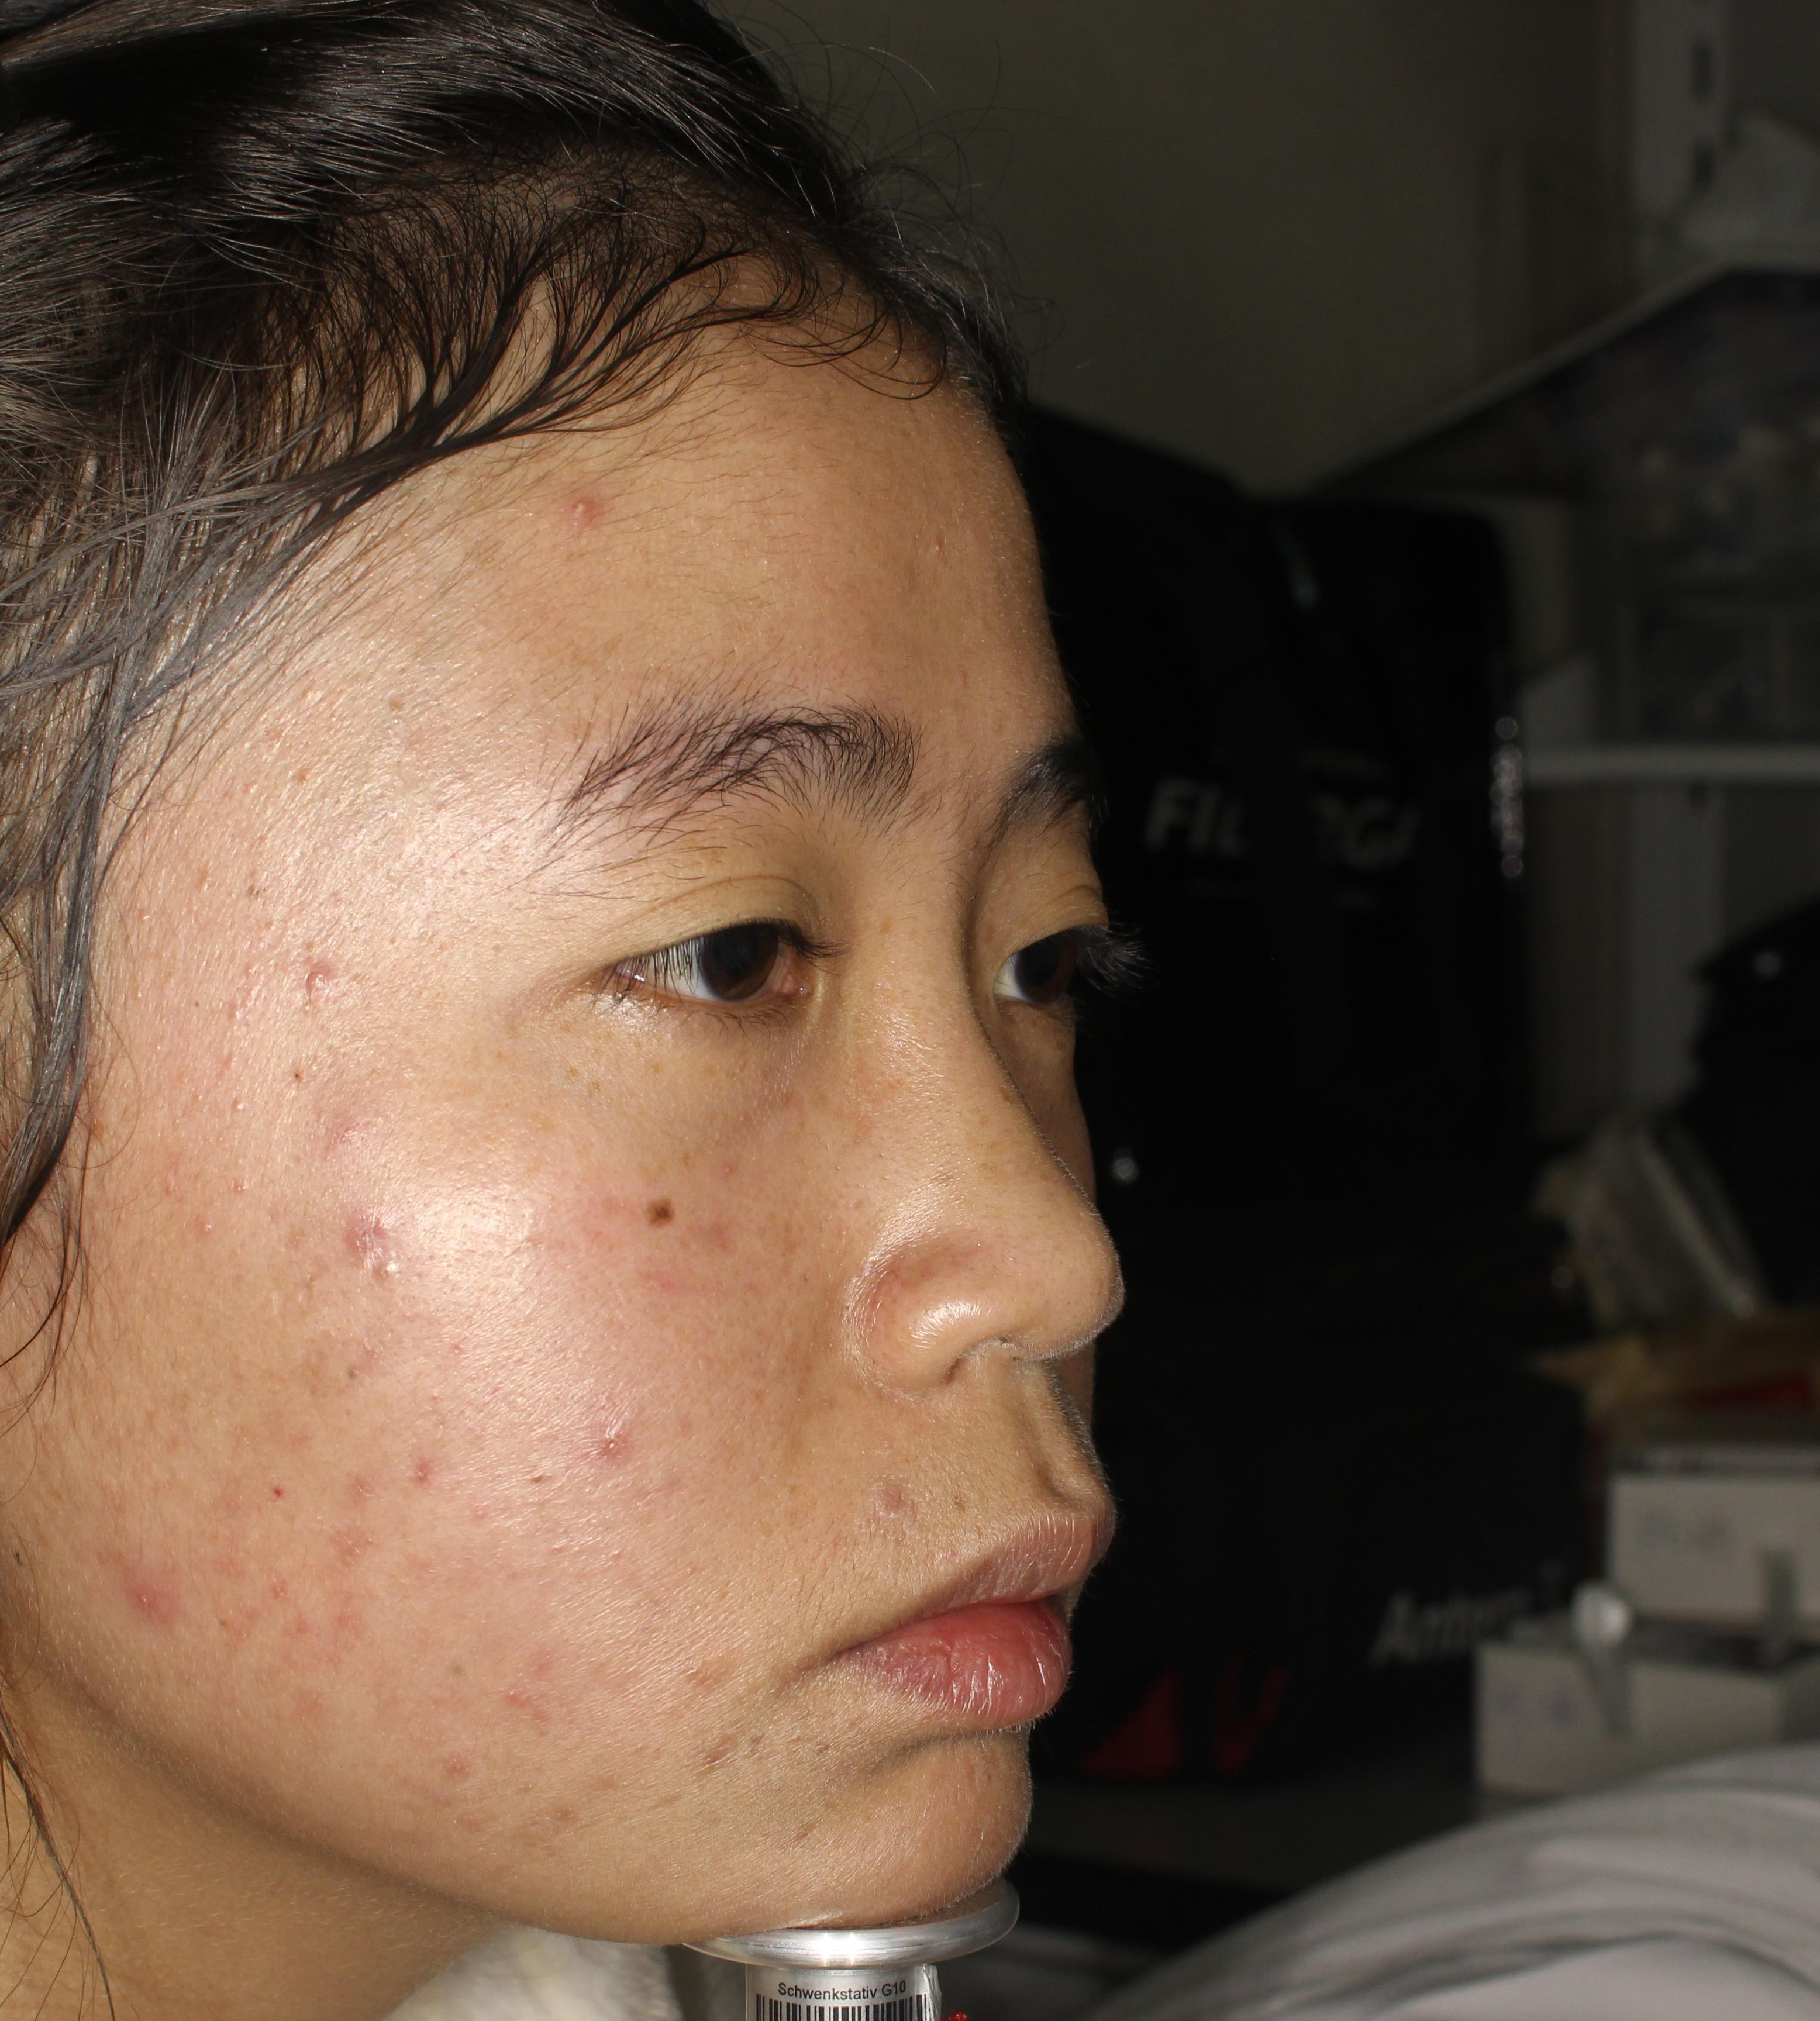fore: (314, 1110, 409, 1271), (112, 1554, 207, 1652), (543, 465, 615, 581), (490, 1658, 574, 1745), (288, 948, 369, 1024), (580, 1401, 638, 1482)
